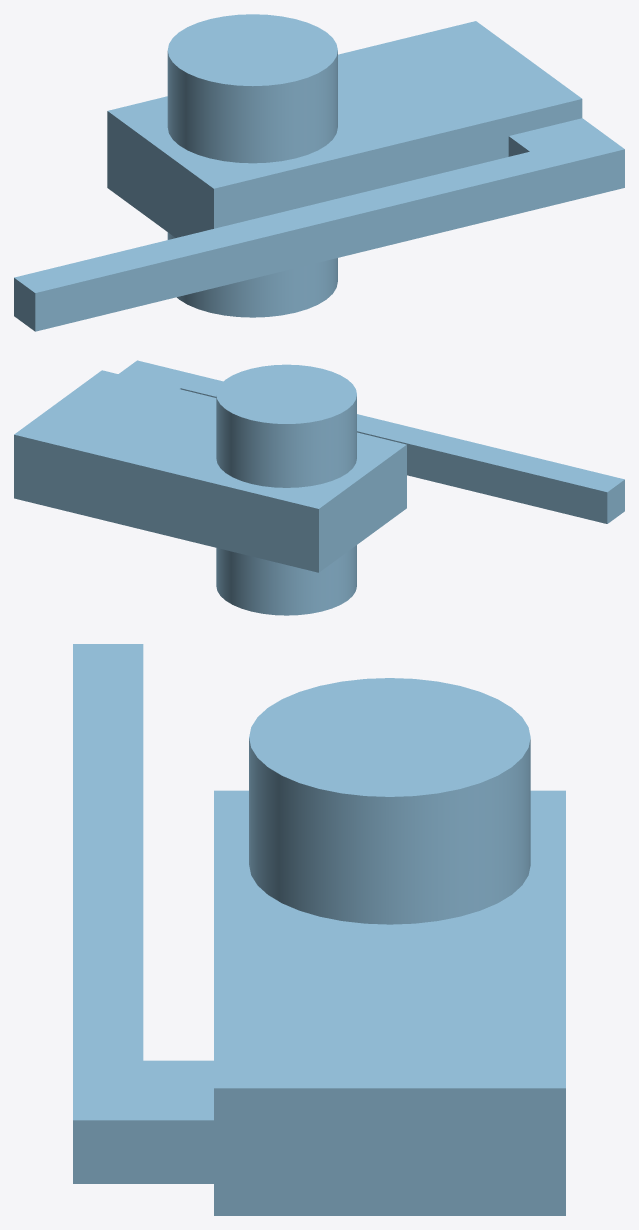
The picture shows the model from 3 angles, top to bottom: view 1: azimuth 30°, elevation 25°; view 2: azimuth 150°, elevation 25°; view 3: azimuth 270°, elevation 25°; orthographic projection. The views are drawn at different scales.
Parts seen in each view (by area): view 1: Part 1; view 2: Part 1; view 3: Part 1.
Part boxes in pixels (bbox=[...]): Part 1: bbox=[14, 14, 624, 331]; Part 1: bbox=[14, 360, 624, 615]; Part 1: bbox=[73, 644, 565, 1215].
Bounding box in the file's own units: 0.2032 × 0.0762 × 0.0889.
